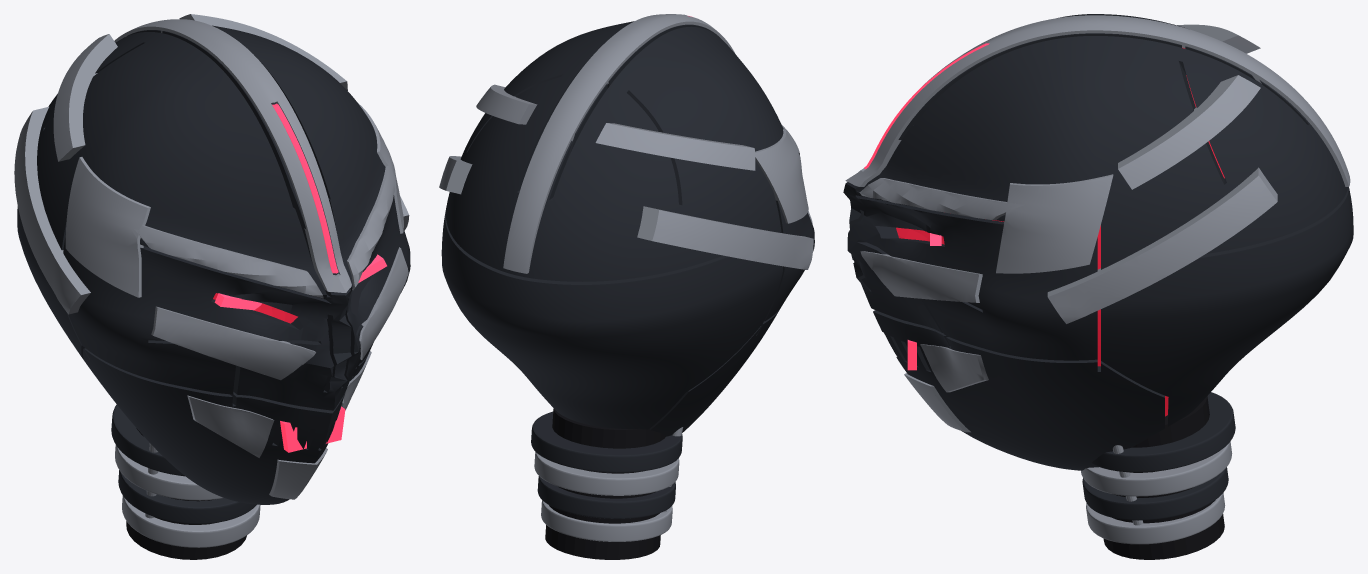
The model's file is immortility-head.glb.
The picture shows the model from 3 angles, left to right: view 1: azimuth 30°, elevation 25°; view 2: azimuth 150°, elevation 25°; view 3: azimuth 270°, elevation 25°; orthographic projection. The views are drawn at different scales.
Visible parts, largest first — view 1: Armor, Plates, Jaw, Neck, CrestGlow, MouthGlow; view 2: Armor, Plates, Neck, Jaw; view 3: Armor, Plates, Jaw, Neck, Core.
Part boxes in pixels (bbox=[...]): Armor: bbox=[17, 25, 410, 410]; Plates: bbox=[14, 14, 409, 380]; Jaw: bbox=[83, 348, 371, 504]; Neck: bbox=[111, 404, 260, 559]; CrestGlow: bbox=[272, 103, 338, 273]; MouthGlow: bbox=[280, 406, 345, 452]; Armor: bbox=[441, 21, 814, 429]; Plates: bbox=[439, 14, 813, 273]; Neck: bbox=[531, 408, 683, 559]; Jaw: bbox=[650, 308, 780, 436]; Armor: bbox=[843, 14, 1353, 426]; Plates: bbox=[845, 15, 1350, 323]; Jaw: bbox=[873, 310, 1164, 470]; Neck: bbox=[1081, 392, 1235, 559]; Core: bbox=[896, 47, 1224, 416].
Size of the model in its own units: 1.66 by 2.44 by 2.17.
